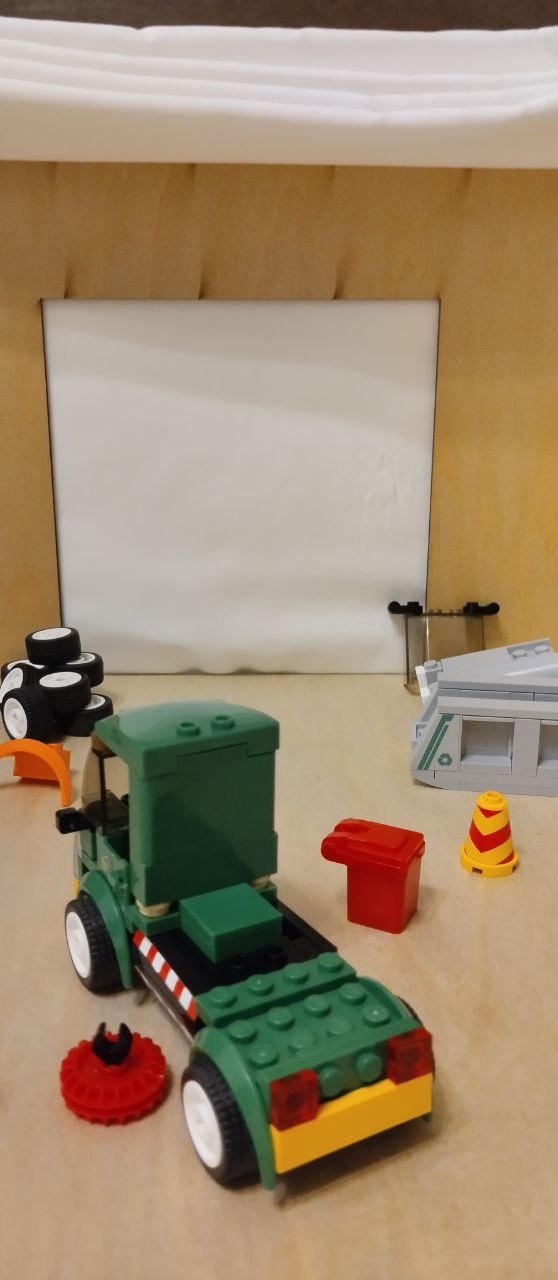Cone: (456, 791, 531, 882)
Object Red: (318, 820, 431, 938)
Truck: (45, 692, 438, 1207)
